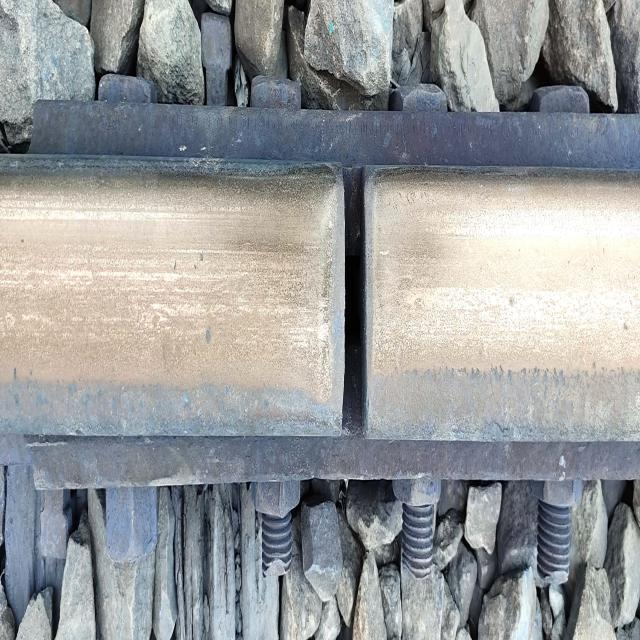railway_join_bar_defects_low: (284, 81, 426, 470)
